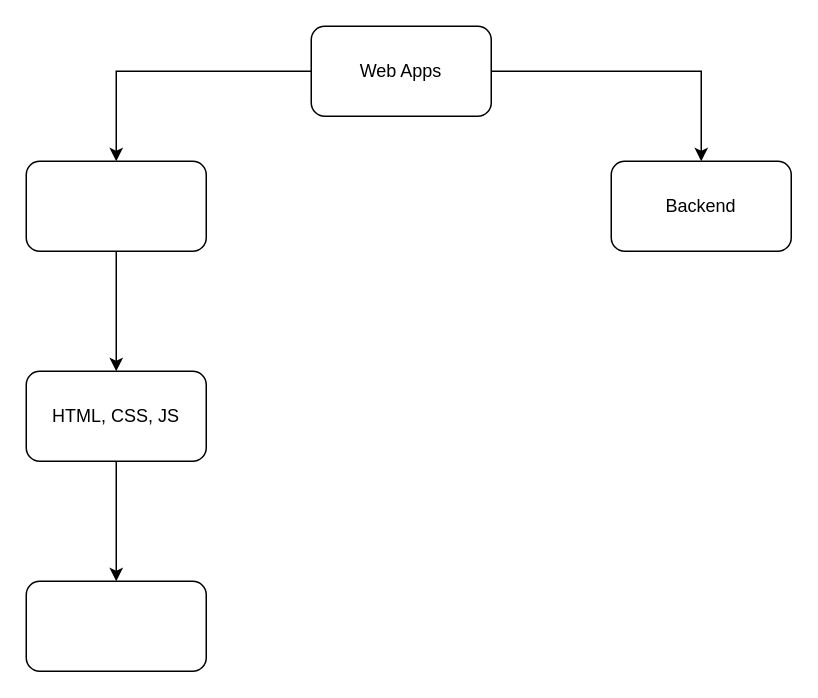
The diagram is 818 pixels wide and 698 high, and some of its shapes have lost their labels. Each missing label, with the centre of its shape:
"Angular, Ionic" belongs at pixel 115 625.
"Frontend" belongs at pixel 115 205.
